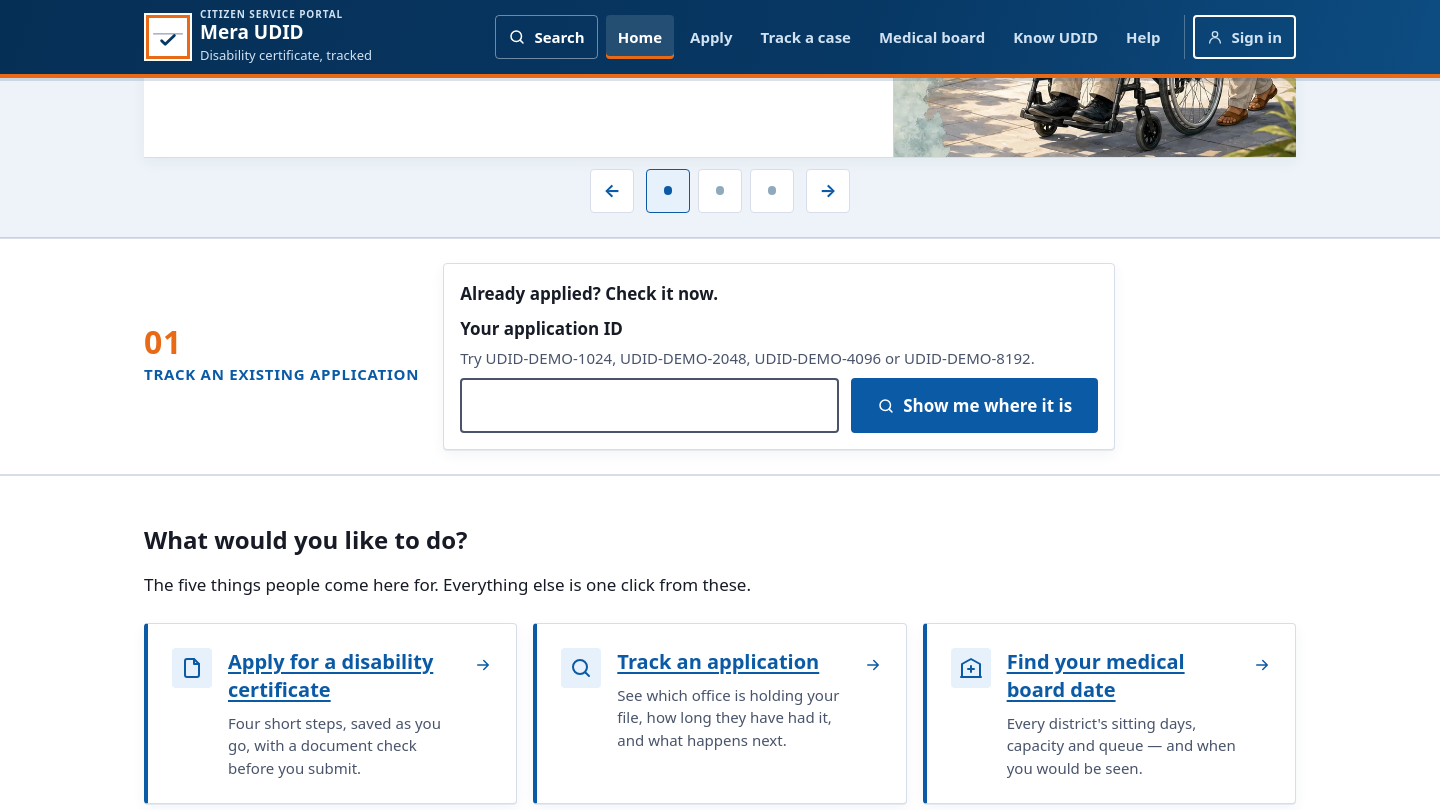
Test case: government website conventions › still lets a returning applicant check a status from the homepage
This screenshot has width=1440, height=810.
(page scrolled)
Type "udid-demo-8192" into the field labelled "Your application ID". click: (650, 406)
box: 460,378 -> 839,433
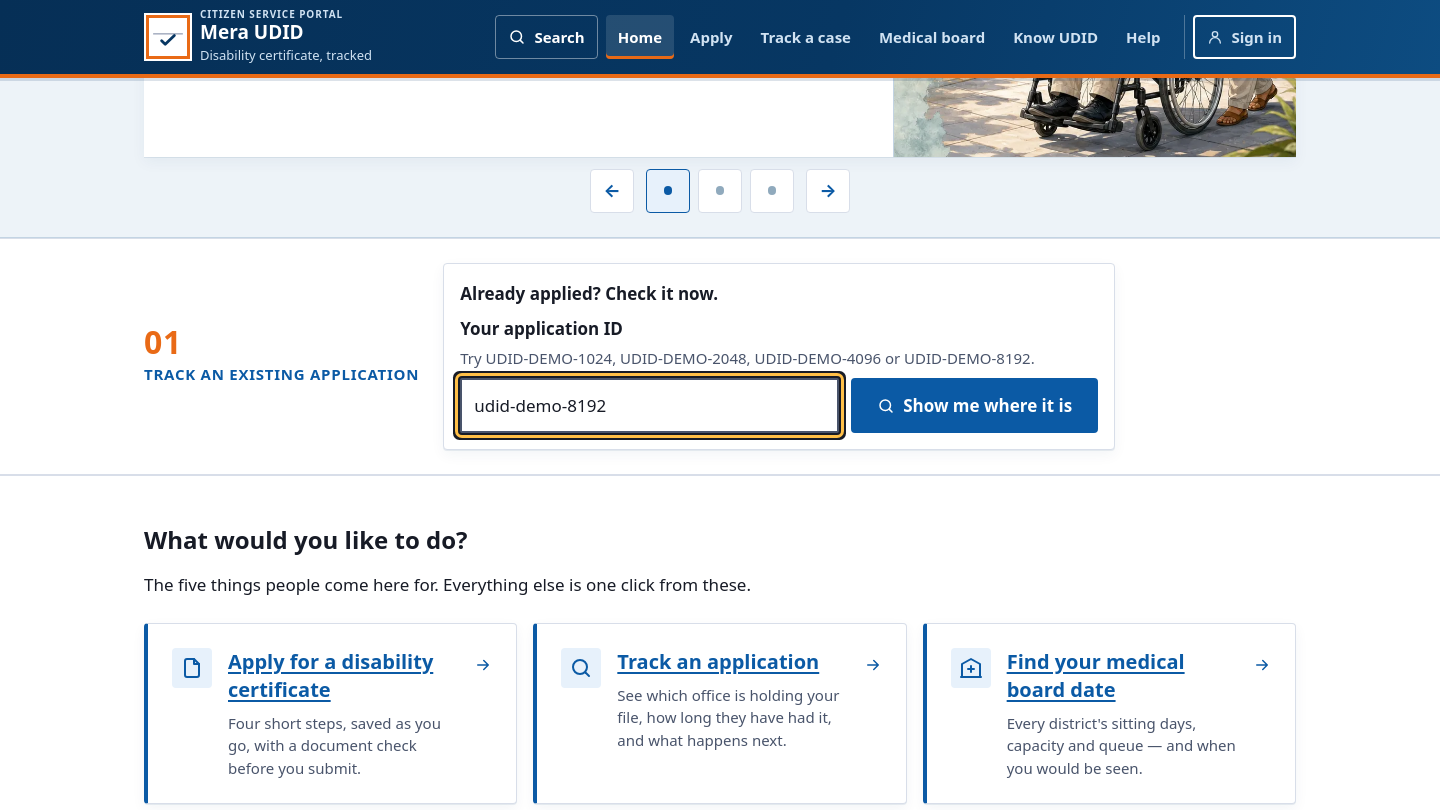
Click the button "Show me where it is". click: (975, 406)
box: 851,378 -> 1098,433
(page scrolled)
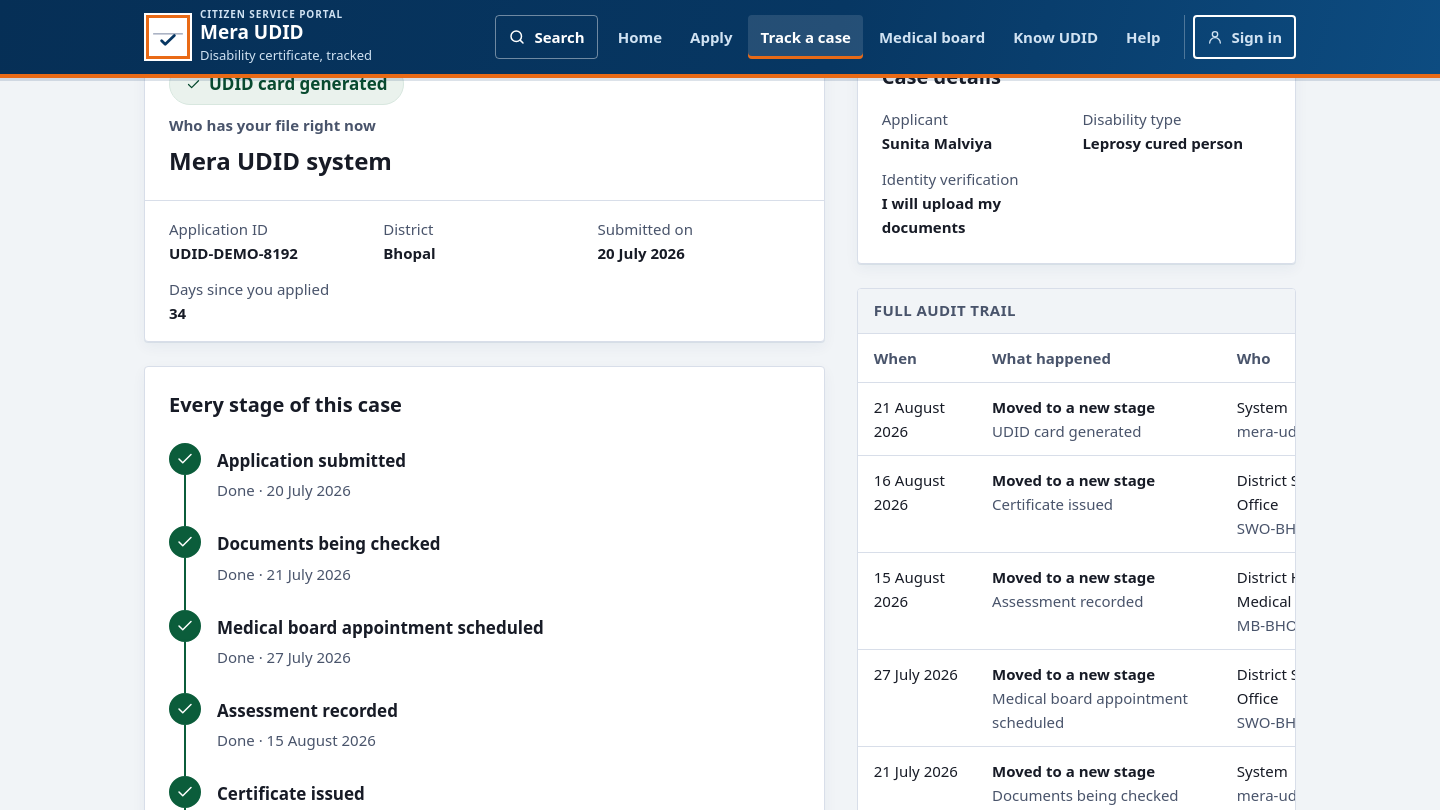
Result: the heading "Every stage of this case" is shown at 169,391 -> 402,418
